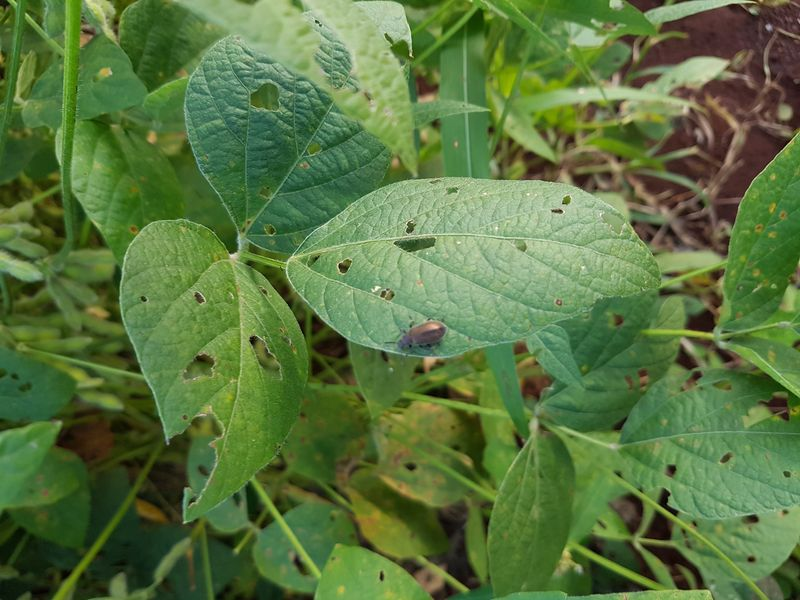Lagria_villosa: (376, 308, 453, 367)
